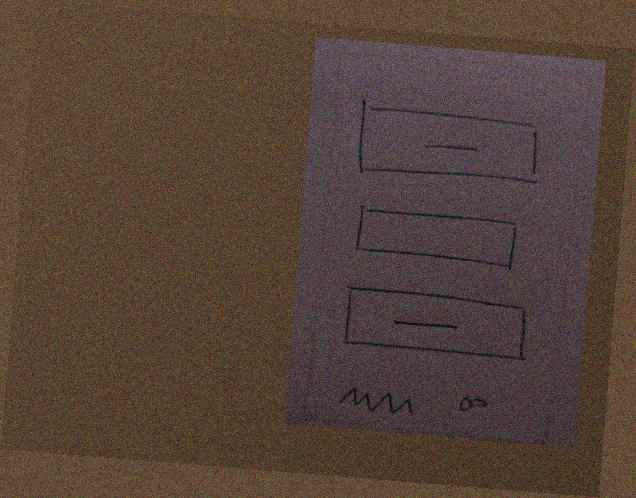button: (350, 96, 552, 192), (335, 279, 539, 368)
switch: (449, 389, 499, 418)
text: (328, 380, 428, 423)
text_input: (347, 200, 523, 276)
